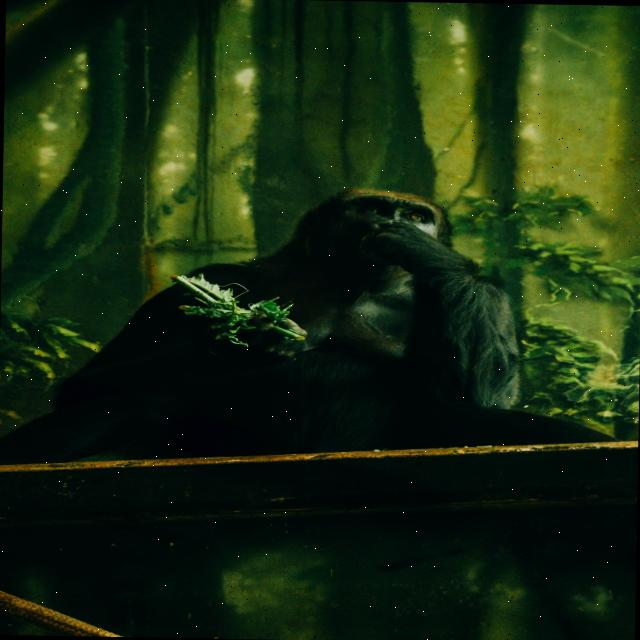Gorilla: (0, 181, 615, 474)
